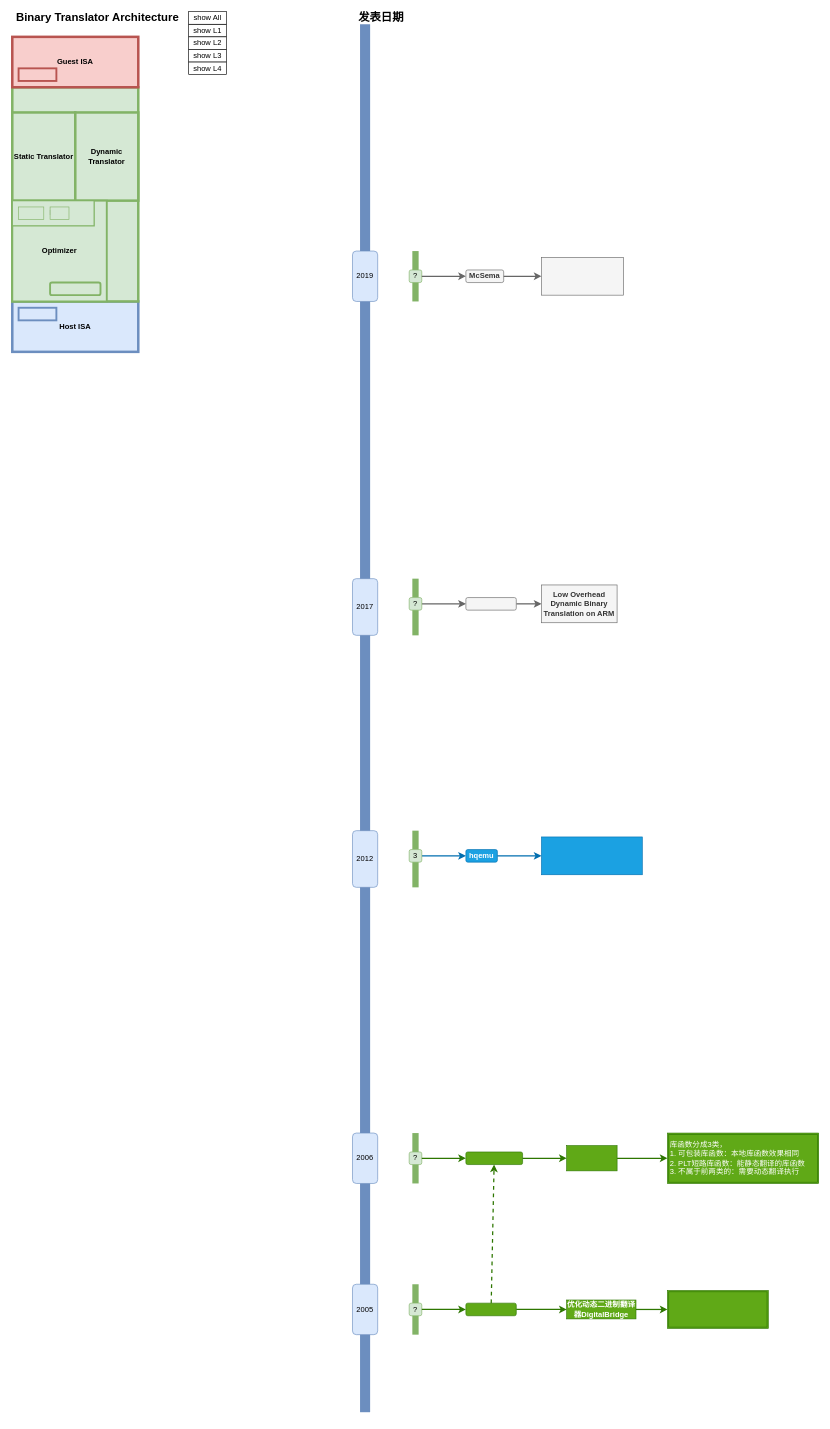
This 830x1429 diagram has some shape labels left out. Here are the shapes that lost their labels. From the top down, the centre of each, then its label:
At [37,74]: "AArch32".
At [31,213]: "LLVM".
At [59,213]: "TCG".
At [75,288]: "Multi thread".
At [582,276]: "Decompiling Binaries into LLVM IR Using McSema and Dyninst".
At [37,313]: "AArch64".
At [490,603]: "MAMBO-X64".
At [591,855]: "HQEMU: A Multi-Threaded and Retargetable Dynamic Binary Translator on Multicores".
At [494,1158]: "DigitalBridge2".
At [591,1158]: "二进制翻译中的库函数处理".
At [490,1309]: "DigitalBridge".
At [717,1309]: "* Linux/MIPS -> Linux/X86 * profile热路径 * 基于模式的标志位优化".
